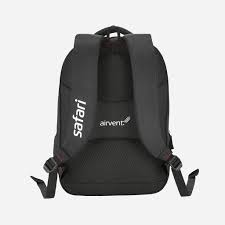backpack: (30, 24, 199, 198)
